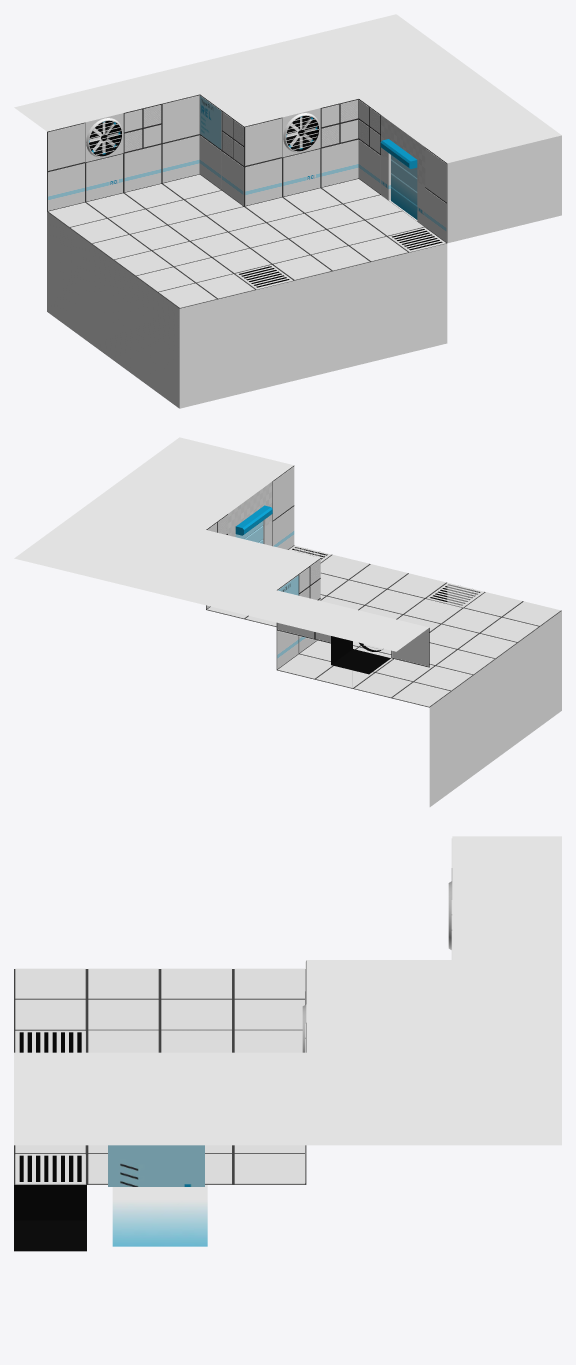
3 views of the same model, one above another, from view 1: azimuth 30°, elevation 25°; view 2: azimuth 150°, elevation 25°; view 3: azimuth 270°, elevation 25° (orthographic). The views are drawn at different scales.
Parts seen in each view (by area): view 1: HoldoutBody, Door.Exit, Panel.Level.Line.001, Panel.Level.Named, Panel.White.034, Panel.White.035, Panel.White.Subdiv, Panel.White.Subdiv.003, Panel.Level.Line.007, Panel.Level.Named.001, Panel.Level.Line, Panel.Level.Line.002 (+53 smaller); view 2: HoldoutBody, Door.Exit, Vent.BlackTunnel.002, Panel.White.037, Panel.White.035, Panel.White.032, Panel.White.015, Panel.White.006, Panel.White.007, Panel.White.008, Panel.White.017, Panel.White.025 (+17 smaller); view 3: HoldoutBody, Vent.BlackTunnel.001, Door.Exit, Door.Exit.Door, Panel.White.024, Panel.White.030, Panel.White.015, Panel.White.025, Panel.White.031, Panel.White.033, Panel.White.029, Panel.White.014 (+11 smaller).
Boxes of the visible parts, box(x1,y1,x2,y2) form: HoldoutBody: box(14, 14, 561, 408); Door.Exit: box(380, 115, 425, 226); Panel.Level.Line.001: box(47, 162, 85, 211); Panel.Level.Named: box(282, 148, 320, 197); Panel.White.034: box(244, 117, 282, 166); Panel.White.035: box(47, 122, 85, 171); Panel.White.Subdiv: box(320, 99, 358, 147); Panel.White.Subdiv.003: box(123, 104, 161, 152); Panel.Level.Line.007: box(123, 144, 161, 192); Panel.Level.Named.001: box(85, 153, 123, 202); Panel.Level.Line: box(244, 157, 282, 206); Panel.Level.Line.002: box(320, 139, 358, 187); HoldoutBody: box(14, 437, 561, 806); Door.Exit: box(228, 482, 272, 545); Vent.BlackTunnel.002: box(331, 636, 390, 674); Panel.White.037: box(272, 465, 294, 520); Panel.White.035: box(391, 628, 429, 667); Panel.White.032: box(391, 682, 451, 707); Panel.White.015: box(463, 592, 523, 617); Panel.White.006: box(403, 599, 462, 624); Panel.White.007: box(365, 589, 424, 614); Panel.White.008: box(327, 580, 386, 605); Panel.White.017: box(349, 564, 408, 589); Panel.White.025: box(442, 608, 501, 633); HoldoutBody: box(14, 836, 561, 1145); Vent.BlackTunnel.001: box(14, 1155, 86, 1251); Door.Exit: box(112, 1185, 207, 1246); Door.Exit.Door: box(108, 1145, 204, 1186); Panel.White.024: box(160, 999, 233, 1030); Panel.White.030: box(160, 968, 233, 999); Panel.White.015: box(14, 999, 86, 1030); Panel.White.025: box(87, 999, 159, 1030); Panel.White.031: box(87, 968, 159, 999); Panel.White.033: box(14, 968, 86, 999); Panel.White.029: box(233, 968, 305, 999); Panel.White.014: box(233, 1154, 306, 1184).
Bounding box in the file's own units: 20 × 9 × 15.
4 materials, 2 textured.
